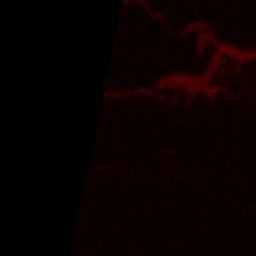debris: (157, 71, 210, 92), (198, 20, 217, 49), (214, 48, 254, 61), (103, 88, 158, 97), (205, 57, 228, 76), (159, 14, 174, 35), (180, 20, 195, 35), (207, 82, 228, 92), (141, 3, 153, 14)
